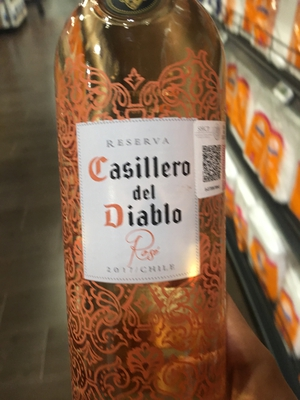casillero del diablo rose: (49, 25, 235, 400)
